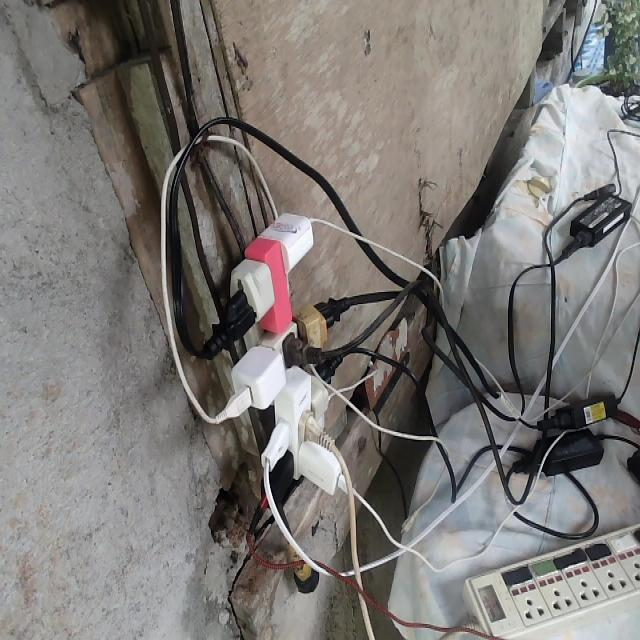-: (197, 208, 360, 497)
